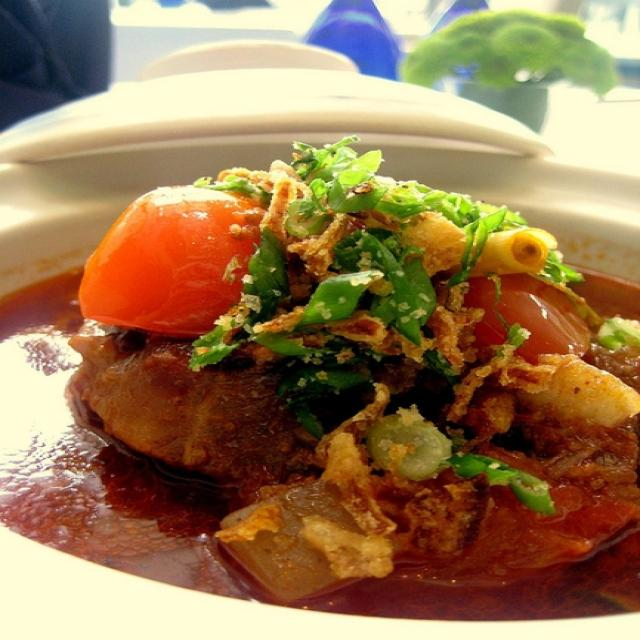汤锅炖物: (7, 90, 637, 610)
